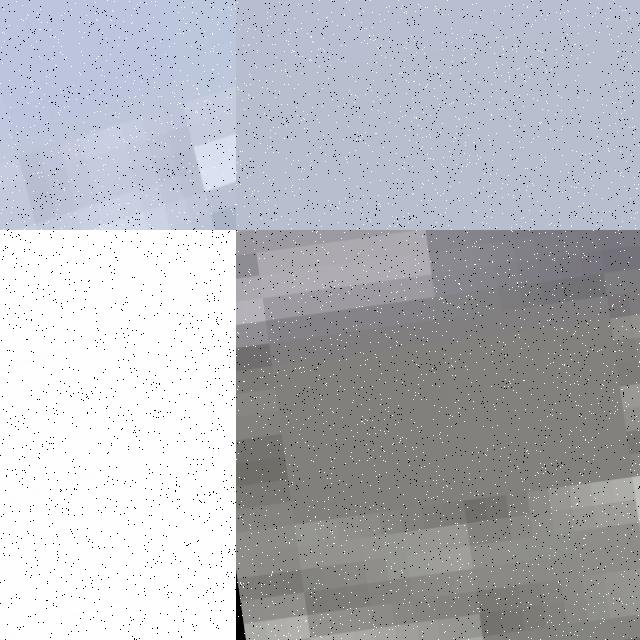drone: (0, 230, 157, 640), (0, 0, 236, 230)
